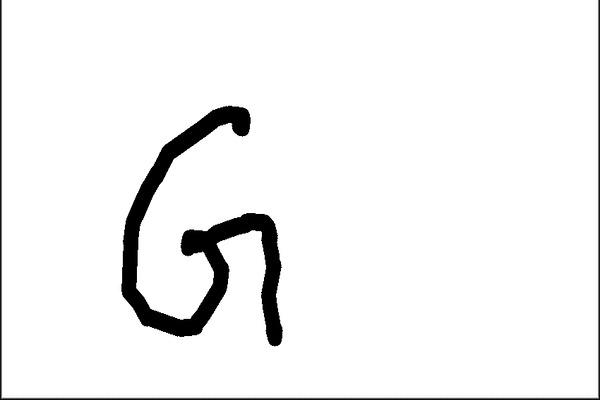G: (115, 101, 291, 348)
